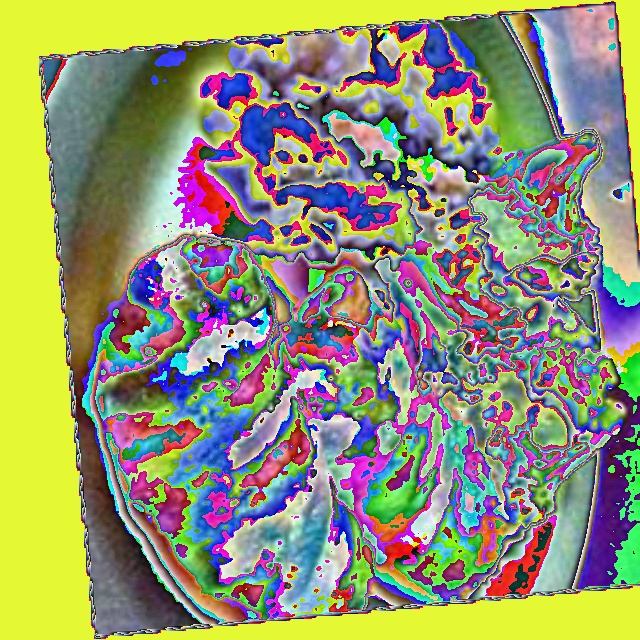background: (98, 20, 629, 619)
